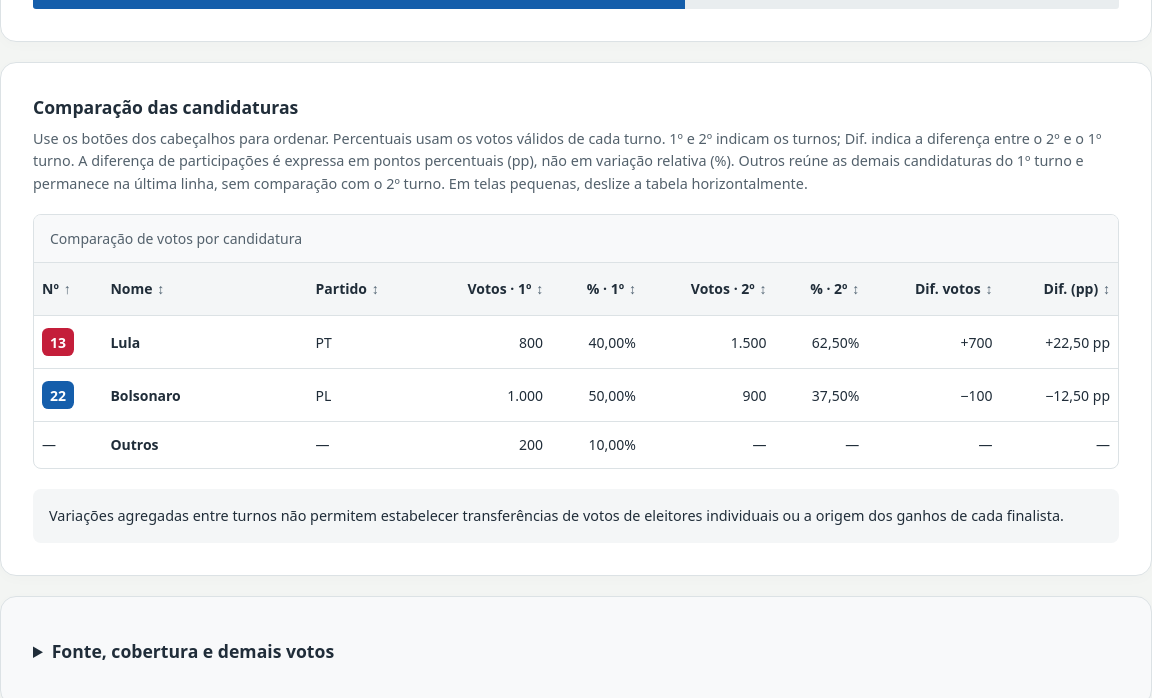
Scenario: ResultsPanel › retains per-round ballot denominators, source ranges, finality, coverage and source attribution
This screenshot has width=1152, height=698.
(page scrolled)
Click the heading "Fonte, cobertura e demais votos".
click(193, 651)  # box [52,639,334,663]
(page scrolled)
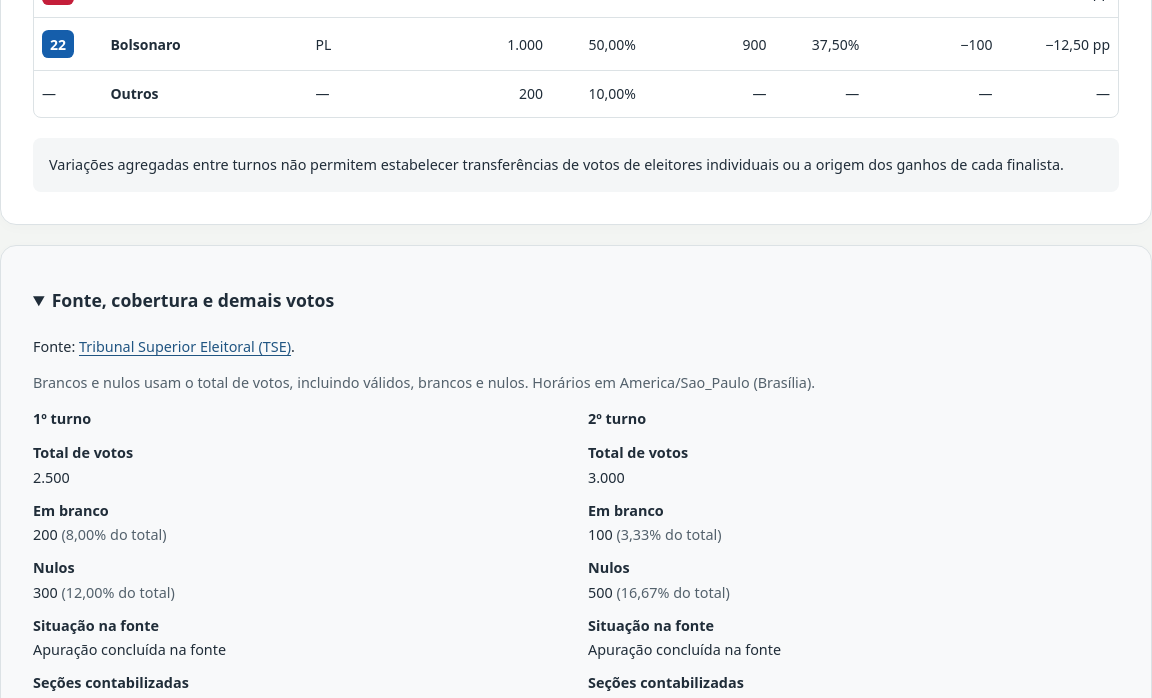
Now the text "2.500" is shown, box [33,468,70,487]
Now the element showing "200 (8,00% do total)" is shown, box [33,525,166,544]
Now the element showing "100 (3,33% do total)" is shown, box [588,525,722,544]
